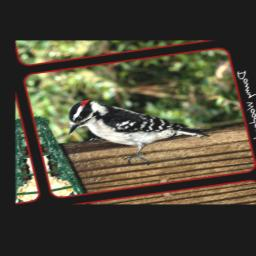Woodpecker: (60, 85, 214, 177)
